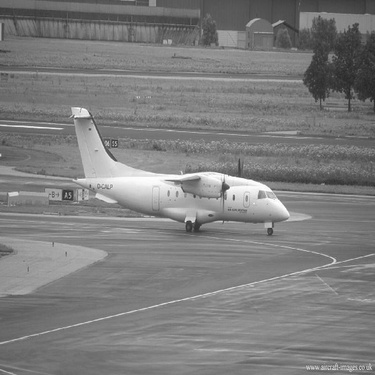airplane: (16, 92, 318, 263)
